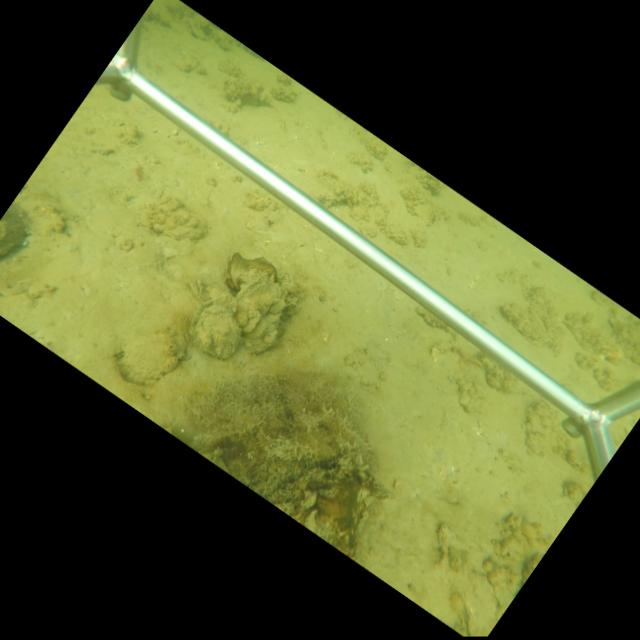Oyster-Closed: (148, 197, 209, 242)
Oyster-Indeterminate: (187, 303, 241, 364), (234, 279, 278, 325), (499, 303, 547, 342)
